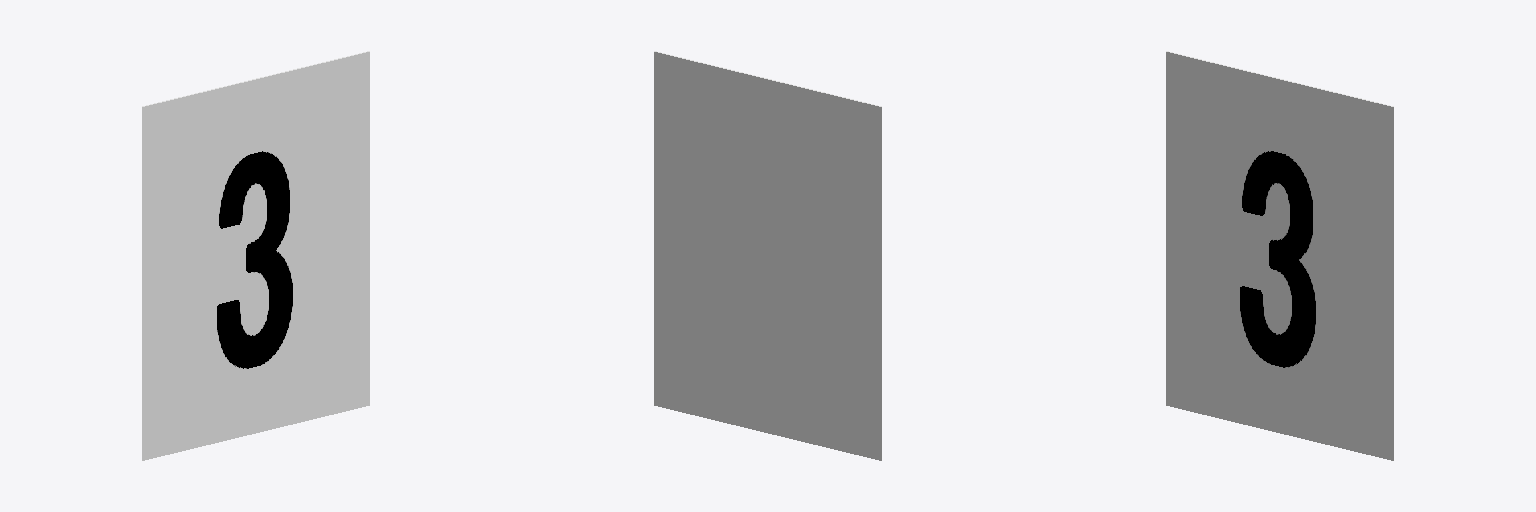
The picture shows the model from 3 angles: view 1: azimuth 30°, elevation 25°; view 2: azimuth 150°, elevation 25°; view 3: azimuth 330°, elevation 25°; orthographic projection.
Visible parts, largest first — view 1: Cube.001; view 2: Cube.001; view 3: Cube.001.
Boxes of the visible parts, x1,y1,x2,y2 form: Cube.001: [142, 51, 369, 460]; Cube.001: [654, 51, 881, 460]; Cube.001: [1166, 51, 1393, 460].
Size of the model in its own units: 2.94 by 4.36 by 0.02.
Materials: 1 (1 with a texture image).